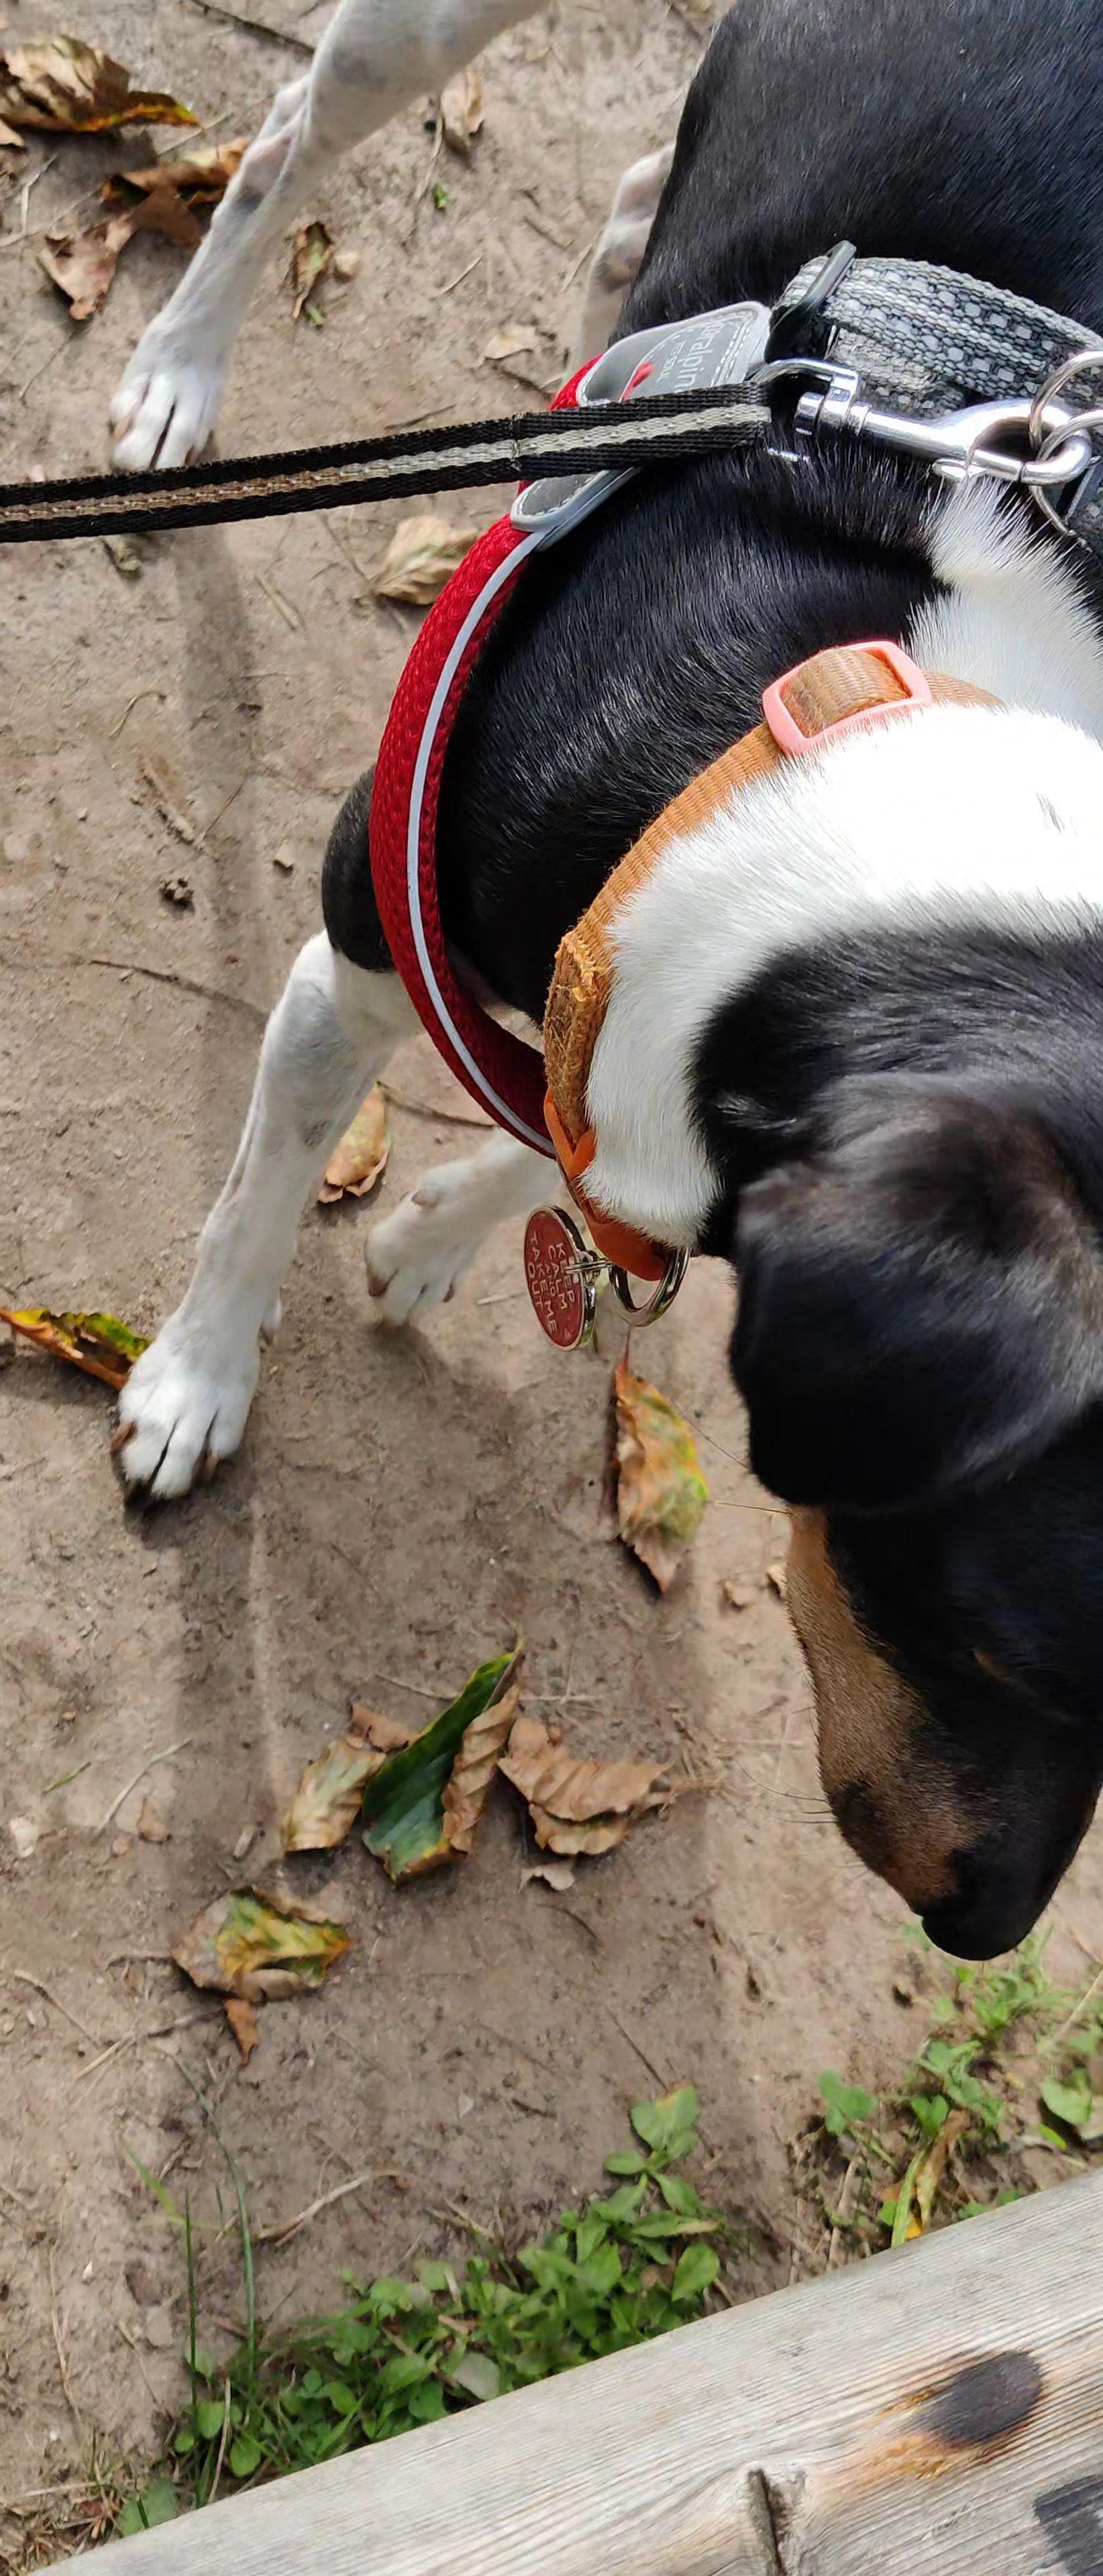Dog: (82, 0, 1103, 1981)
